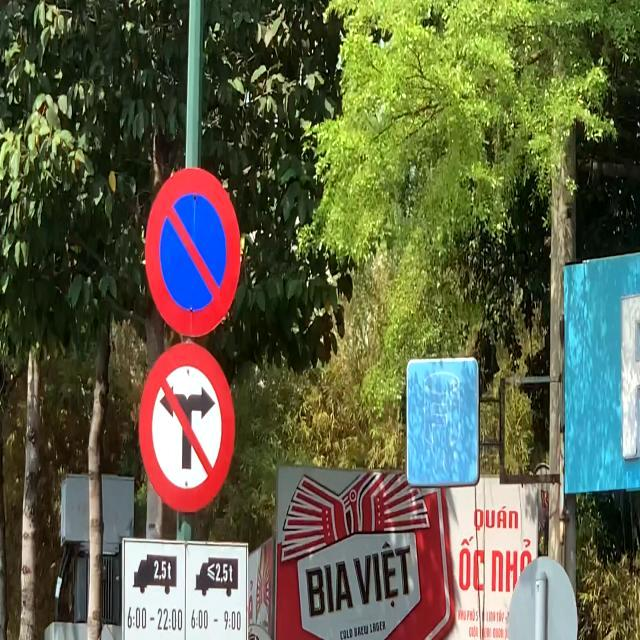Cam do xe: (142, 168, 245, 340)
